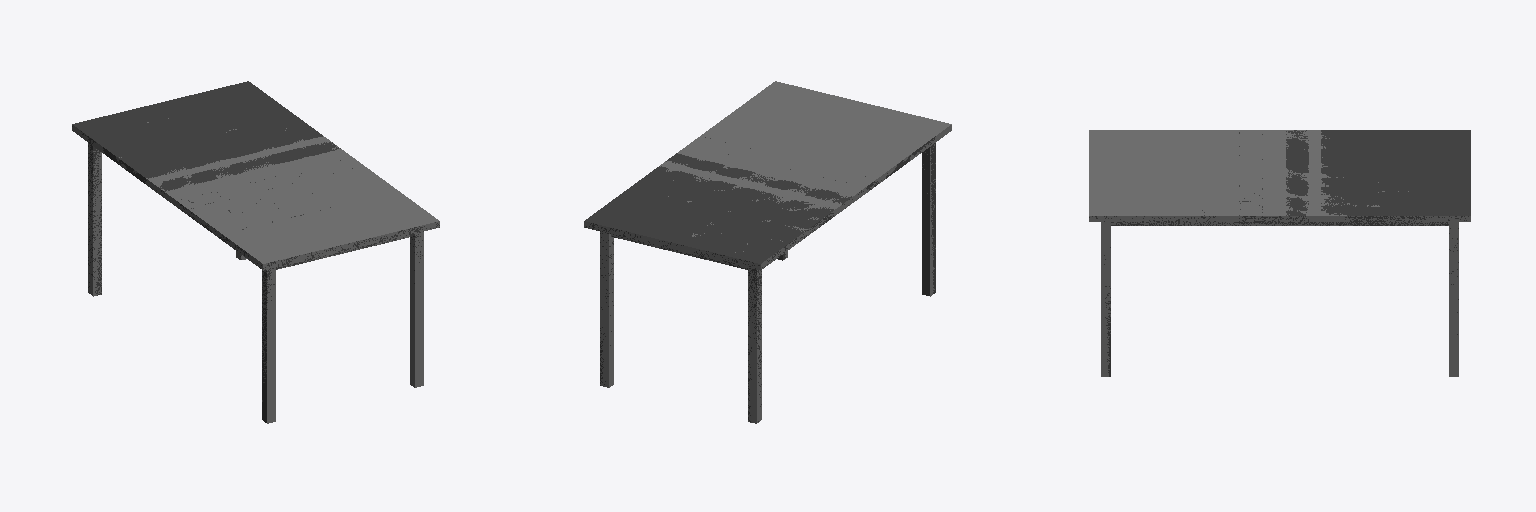
File: tablegray.obj
3 views of the same model, side by side, from view 1: azimuth 30°, elevation 25°; view 2: azimuth 150°, elevation 25°; view 3: azimuth 270°, elevation 25° (orthographic).
Visible parts, largest first — view 1: Box001, Box001.001, Box005, Box004, Box002, Box004.001, Box002.001; view 2: Box001, Box001.001, Box003, Box002, Box004.001; view 3: Box001, Box001.001, Box003, Box005, Box009, Box009.001.
Boxes of the visible parts, box(x1,y1,x2,y2) form: Box001: box(72, 118, 439, 270); Box001.001: box(72, 81, 439, 269); Box005: box(410, 232, 423, 387); Box004: box(262, 268, 275, 423); Box002: box(88, 143, 101, 296); Box004.001: box(262, 268, 274, 422); Box002.001: box(88, 143, 101, 295); Box001: box(584, 81, 951, 270); Box001.001: box(585, 136, 935, 269); Box003: box(600, 232, 613, 387); Box002: box(748, 268, 761, 423); Box004.001: box(922, 143, 935, 295); Box001: box(1089, 130, 1470, 221); Box001.001: box(1089, 130, 1470, 221); Box003: box(1449, 222, 1458, 376); Box005: box(1101, 222, 1110, 376); Box009: box(1111, 222, 1448, 225); Box009.001: box(1111, 222, 1448, 225).
Bounding box in the file's own units: 80 × 72.13 × 150.